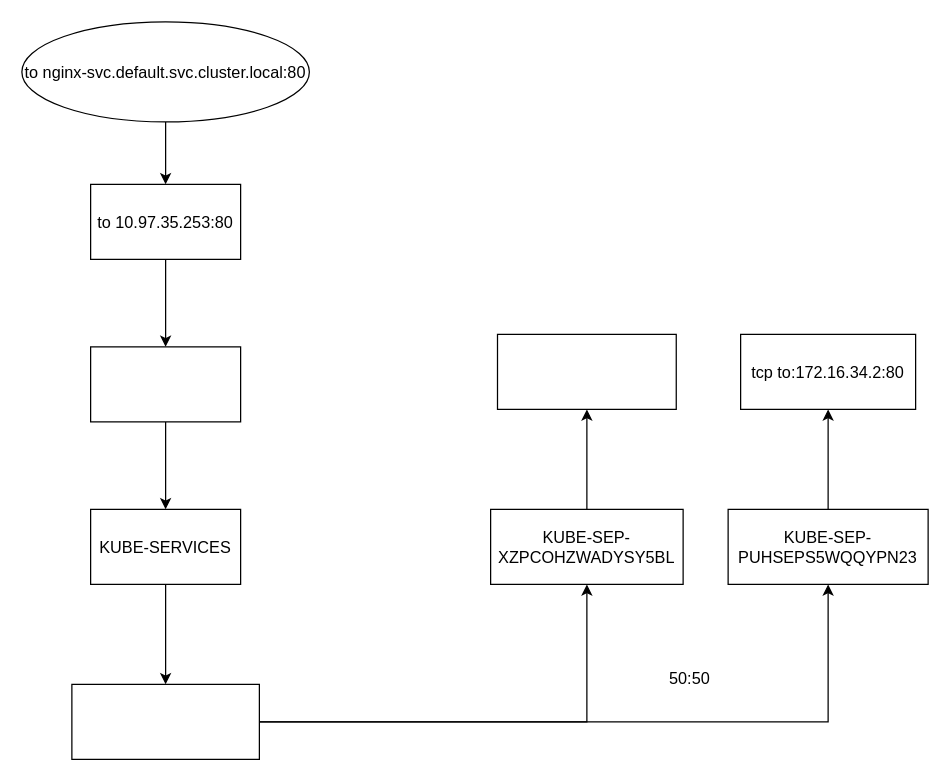
The diagram is 950 pixels wide and 781 high, and some of its shapes have lost their labels. Each missing label, with the centre of its shape:
KUBE-SVC-XGGFECEVWTMEPKIK: point 165,721
PREROUTING: point 165,384
tcp to:172.16.158.3:80: point 586,371
